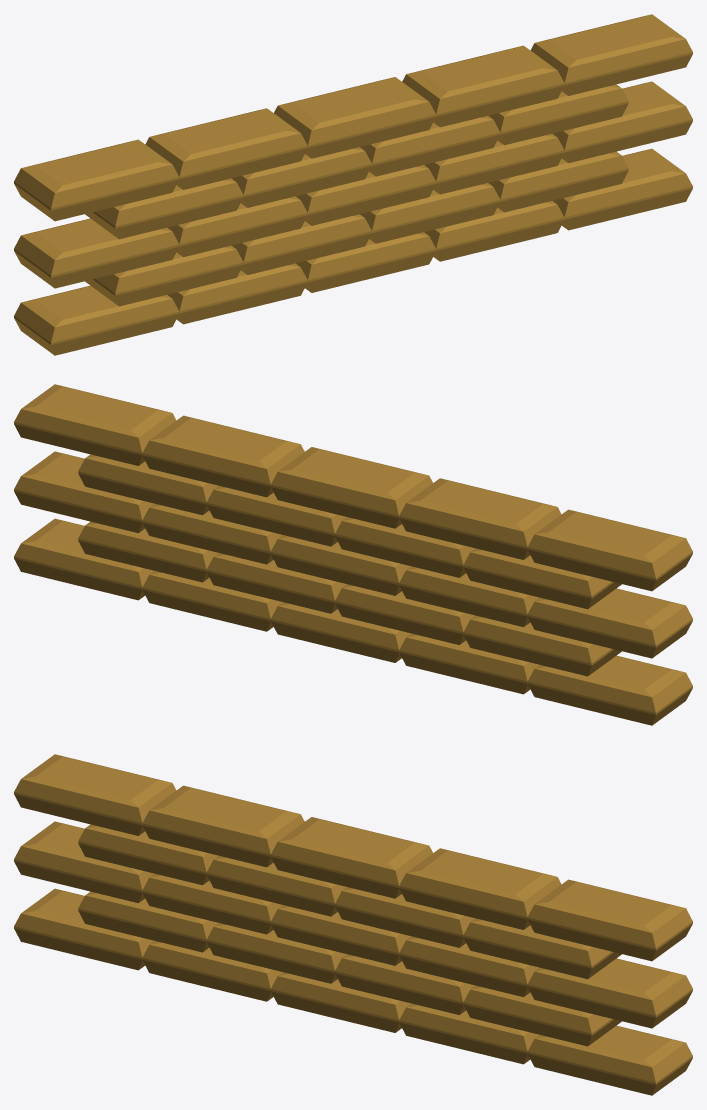
Rendered from Sand Bags Wall 1.fbx.
3 renders of one model, top to bottom at view 1: azimuth 30°, elevation 25°; view 2: azimuth 150°, elevation 25°; view 3: azimuth 330°, elevation 25°, orthographic.
Visible parts, largest first — view 1: Sand Bags Wall 1; view 2: Sand Bags Wall 1; view 3: Sand Bags Wall 1.
Part boxes in pixels (x1=…): Sand Bags Wall 1: x1=14, y1=14, x2=692, y2=355; Sand Bags Wall 1: x1=14, y1=384, x2=692, y2=725; Sand Bags Wall 1: x1=14, y1=754, x2=692, y2=1095.
Size of the model in its own units: 1000 by 250 by 100.
